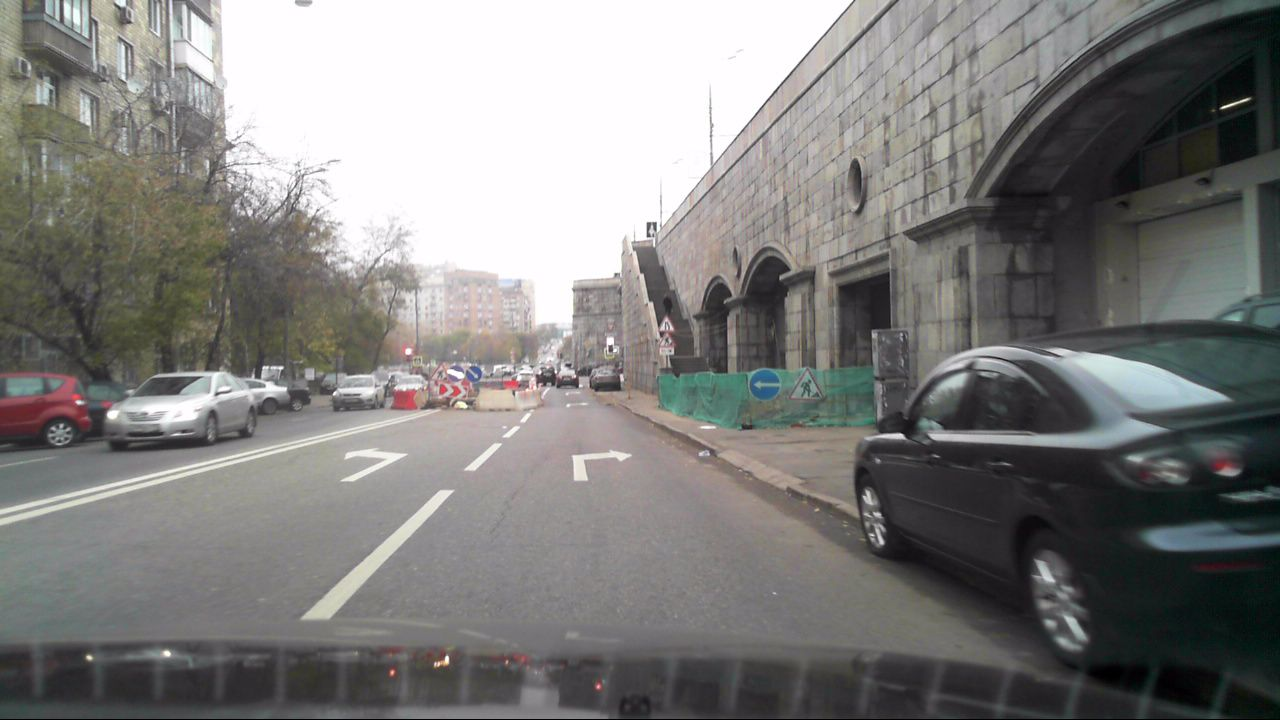Turn Left: (749, 369, 781, 401)
